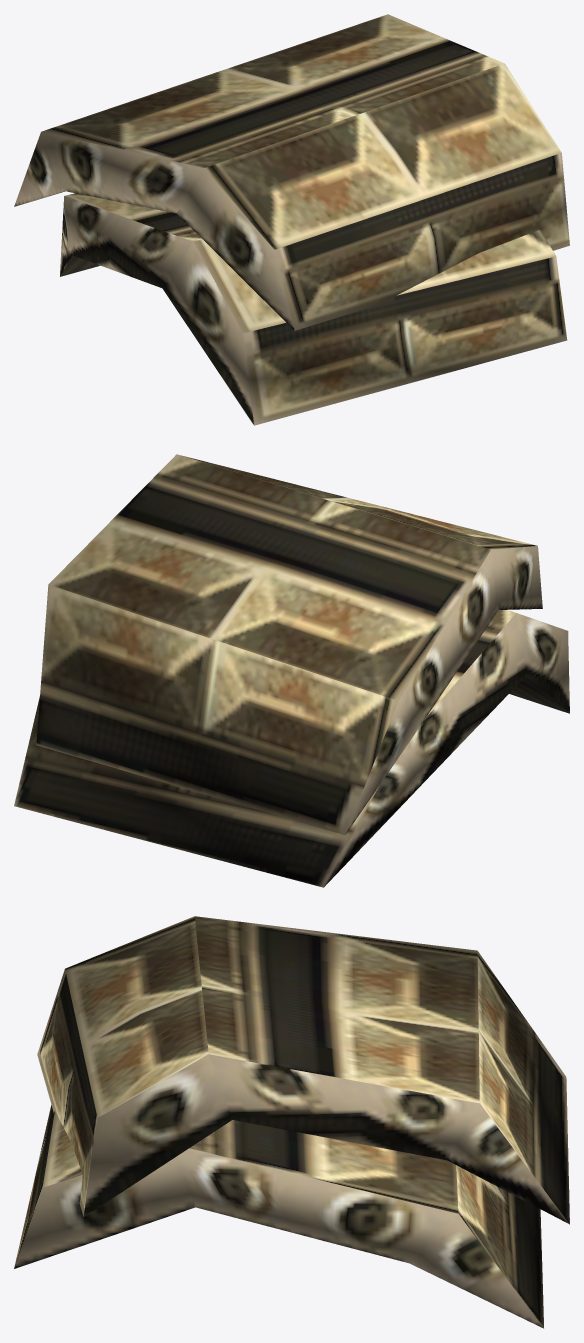
Rendered from ShoulderPads5.glb.
The picture shows the model from 3 angles, top to bottom: view 1: azimuth 30°, elevation 25°; view 2: azimuth 150°, elevation 25°; view 3: azimuth 270°, elevation 25°; orthographic projection. The views are drawn at different scales.
Visible parts, largest first — view 1: ShoulderPads5; view 2: ShoulderPads5; view 3: ShoulderPads5.
Part boxes in pixels (x1=…): ShoulderPads5: x1=14, y1=14, x2=569, y2=425; ShoulderPads5: x1=14, y1=454, x2=569, y2=887; ShoulderPads5: x1=14, y1=916, x2=569, y2=1328.
Bounding box in the file's own units: 8.51 × 5.51 × 10.
Materials: 1 (1 with a texture image).
